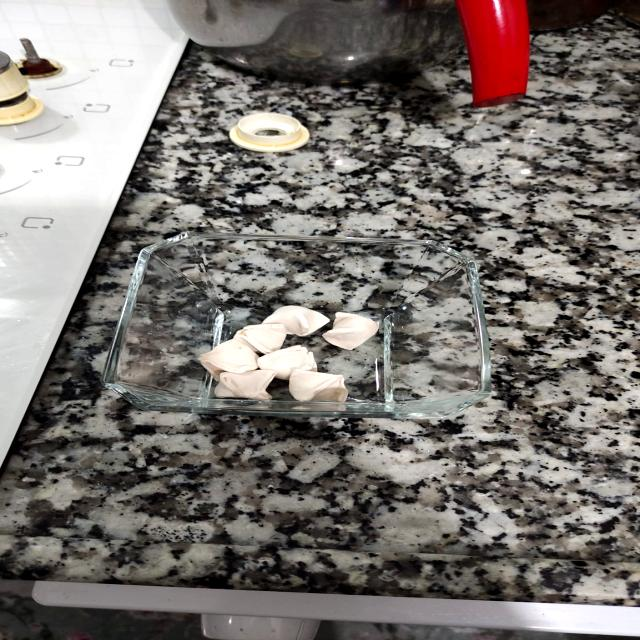turkish dumplings: (180, 286, 430, 411)
